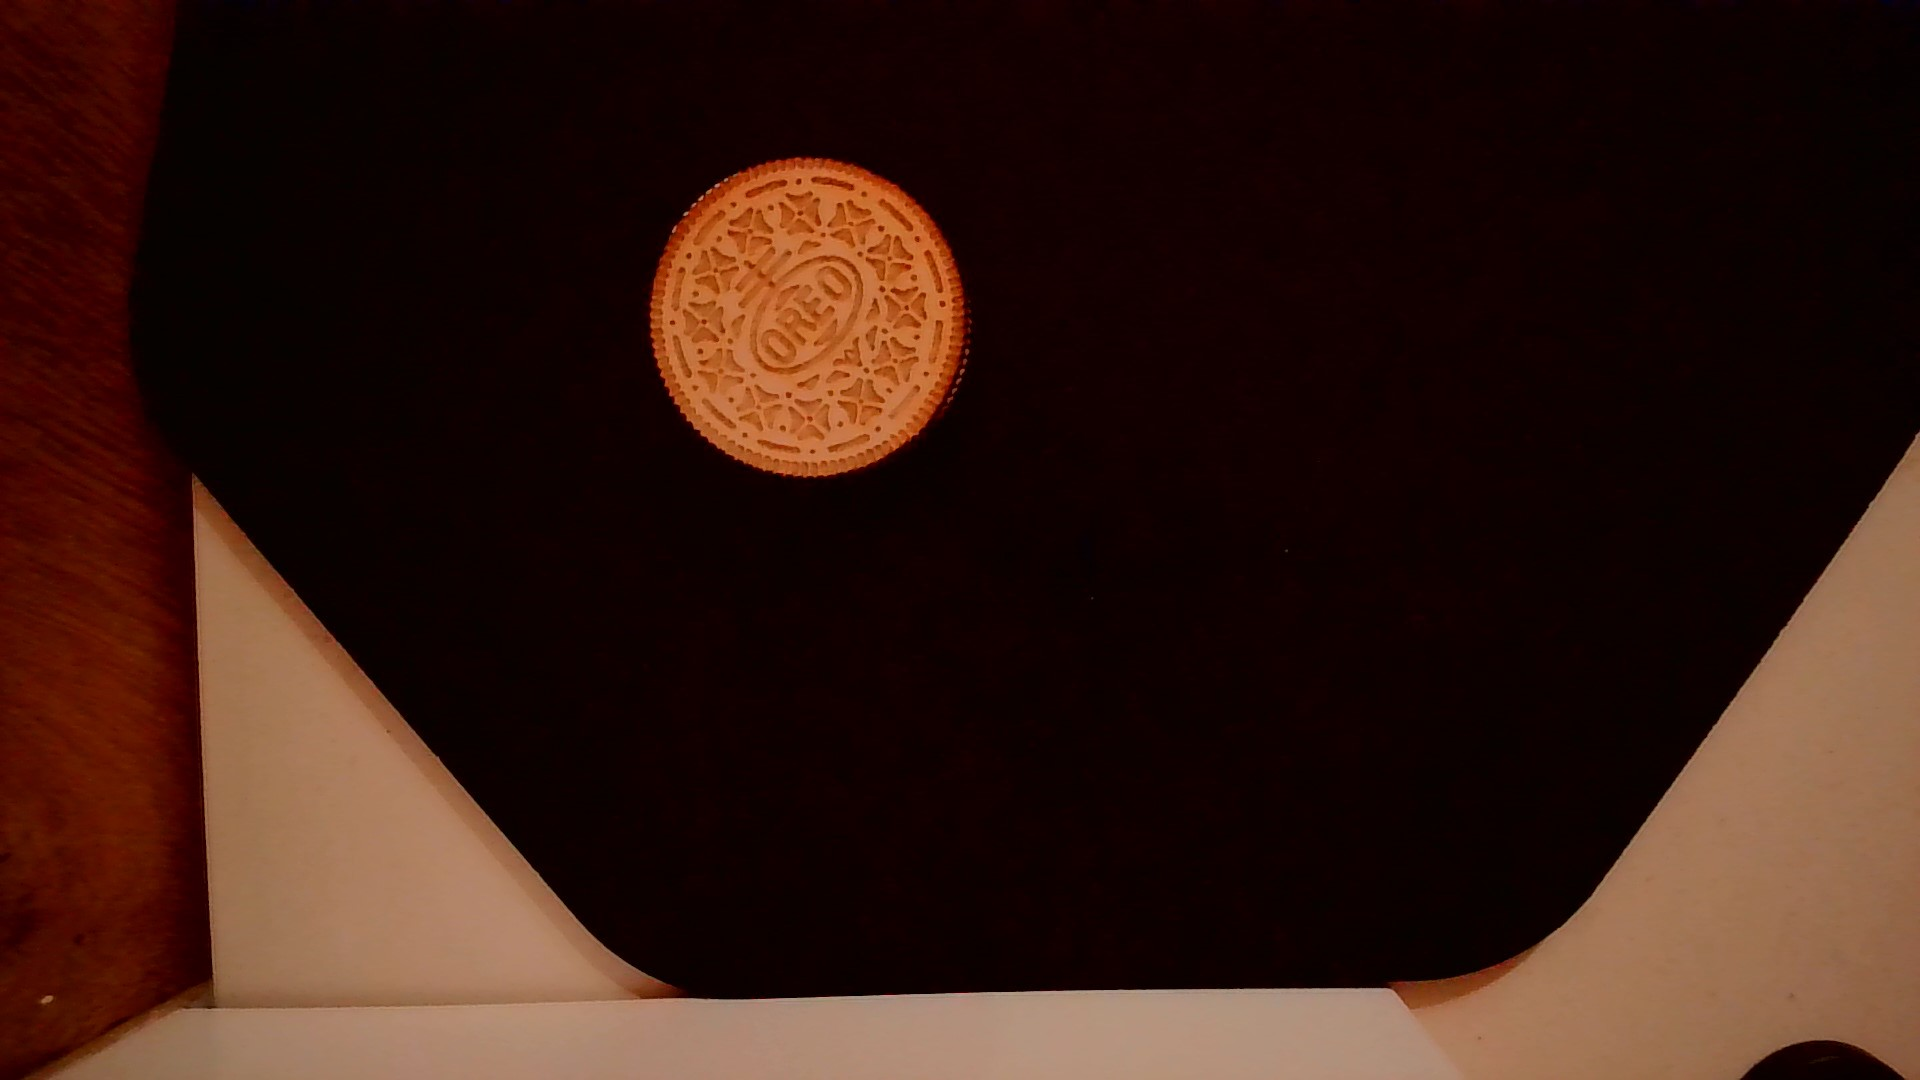Oréo: (636, 142, 978, 495)
